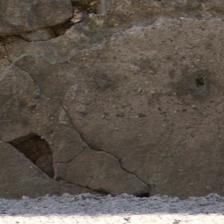Crack: (4, 16, 98, 112), (5, 0, 98, 49), (0, 32, 67, 83), (42, 86, 140, 112)
